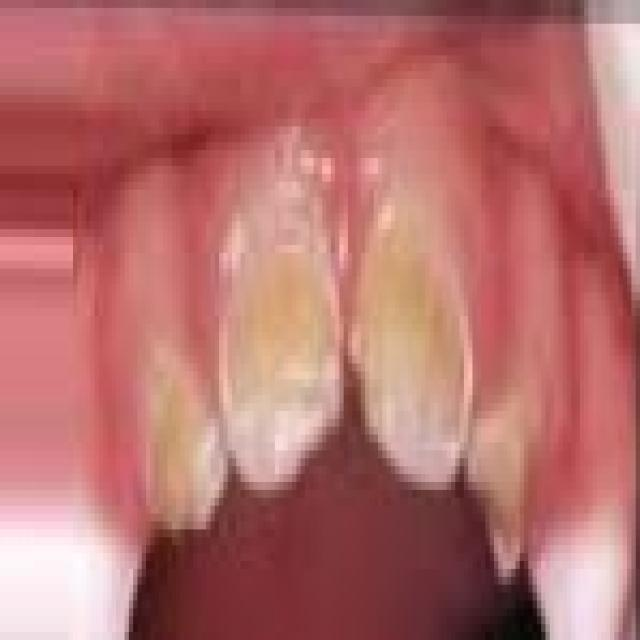caries: (347, 214, 474, 497), (220, 241, 346, 490), (136, 338, 235, 552), (462, 392, 534, 590)
